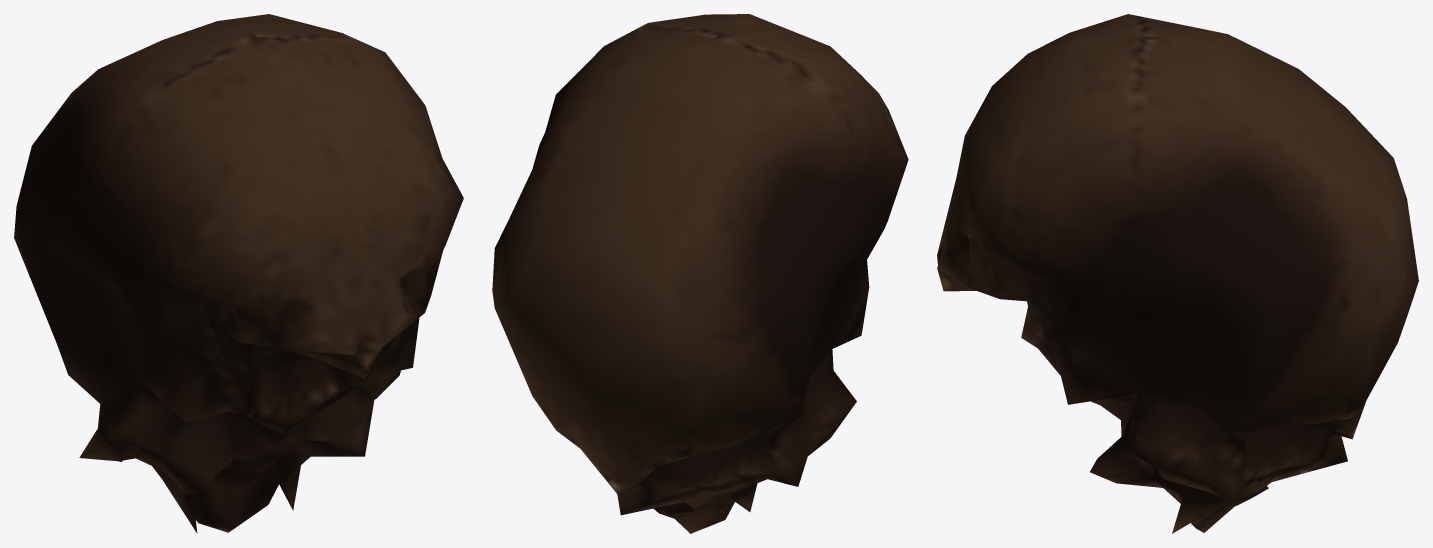
The model's file is boid3.obj.
The picture shows the model from 3 angles, left to right: view 1: azimuth 30°, elevation 25°; view 2: azimuth 150°, elevation 25°; view 3: azimuth 270°, elevation 25°; orthographic projection. The views are drawn at different scales.
Visible parts, largest first — view 1: boid3; view 2: boid3; view 3: boid3.
Boxes of the visible parts, <box> form: boid3: <box>14,14,463,533</box>; boid3: <box>492,14,908,533</box>; boid3: <box>937,14,1418,533</box>.
Bounding box in the file's own units: 0.7868 × 1.14 × 1.01.
